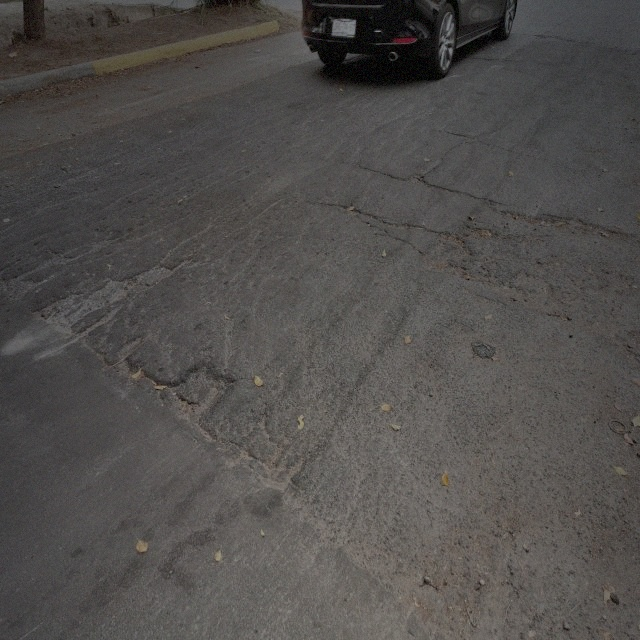pothole: (30, 272, 137, 349), (164, 356, 228, 433), (512, 266, 565, 320), (142, 242, 177, 294), (270, 449, 301, 502), (438, 226, 464, 247), (402, 169, 425, 185), (118, 278, 140, 292)
